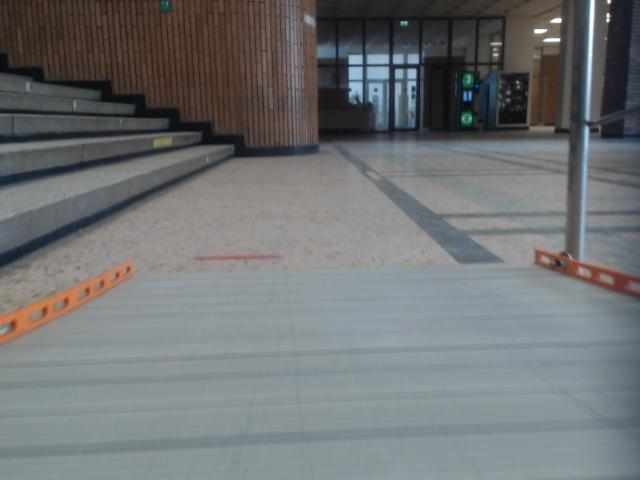rampDown: (0, 251, 639, 479)
ramps-railing: (565, 0, 639, 260)
